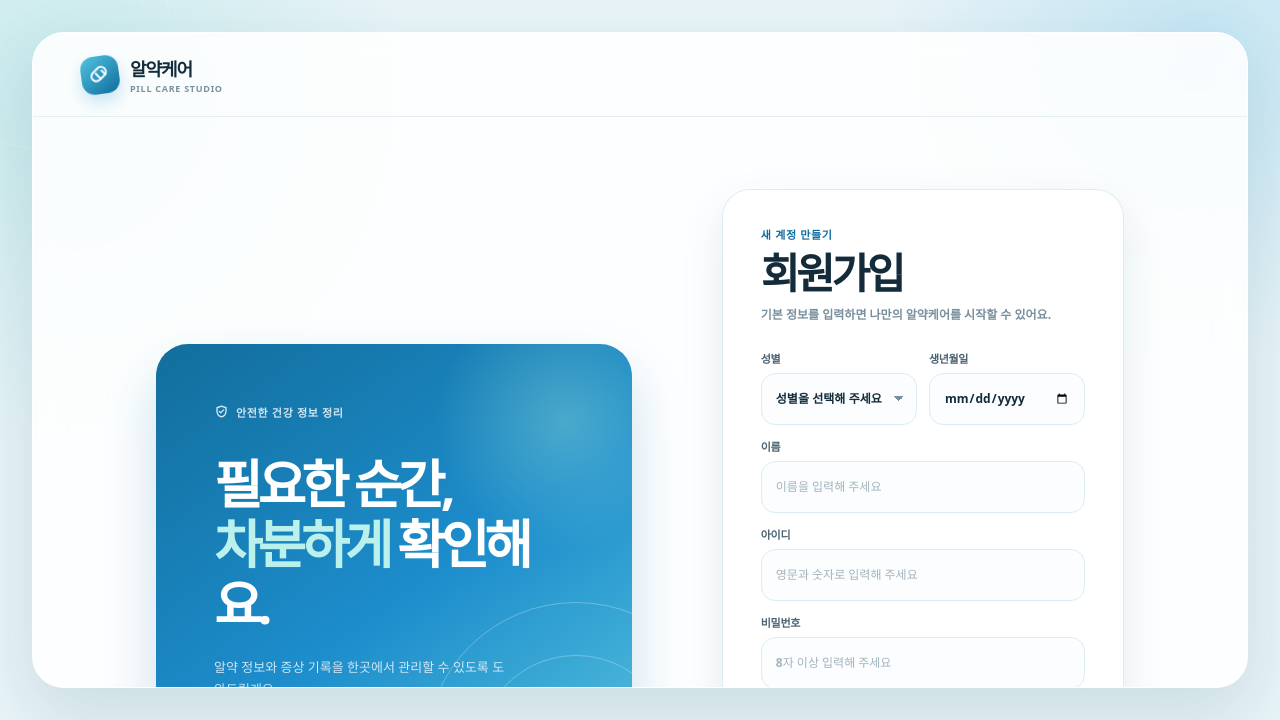
Test: authentication pages › keeps the signup action disabled until required values are complete
The image size is (1280, 720).
Select "남성" in the dropdown labelled "성별" at [839, 399], box 761,373 -> 917,425
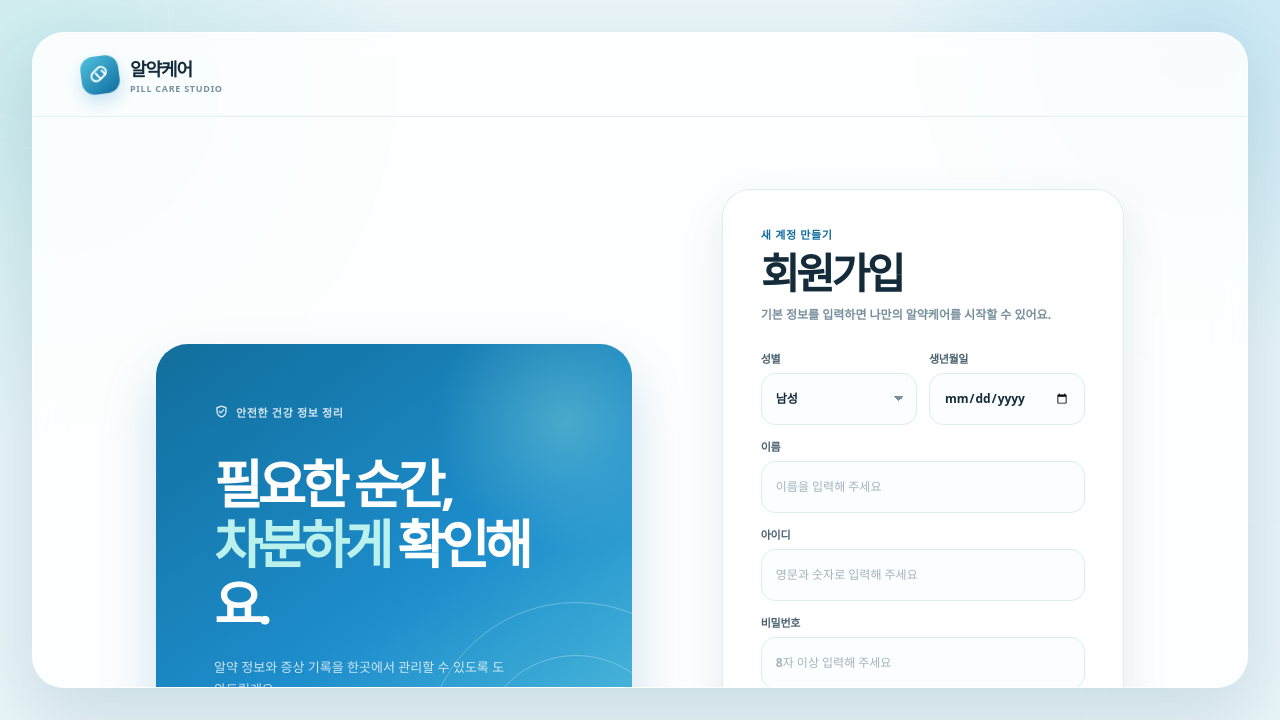
Type "1998-04-12" into the date field labelled "생년월일" at [1007, 399], box 929,373 -> 1085,425
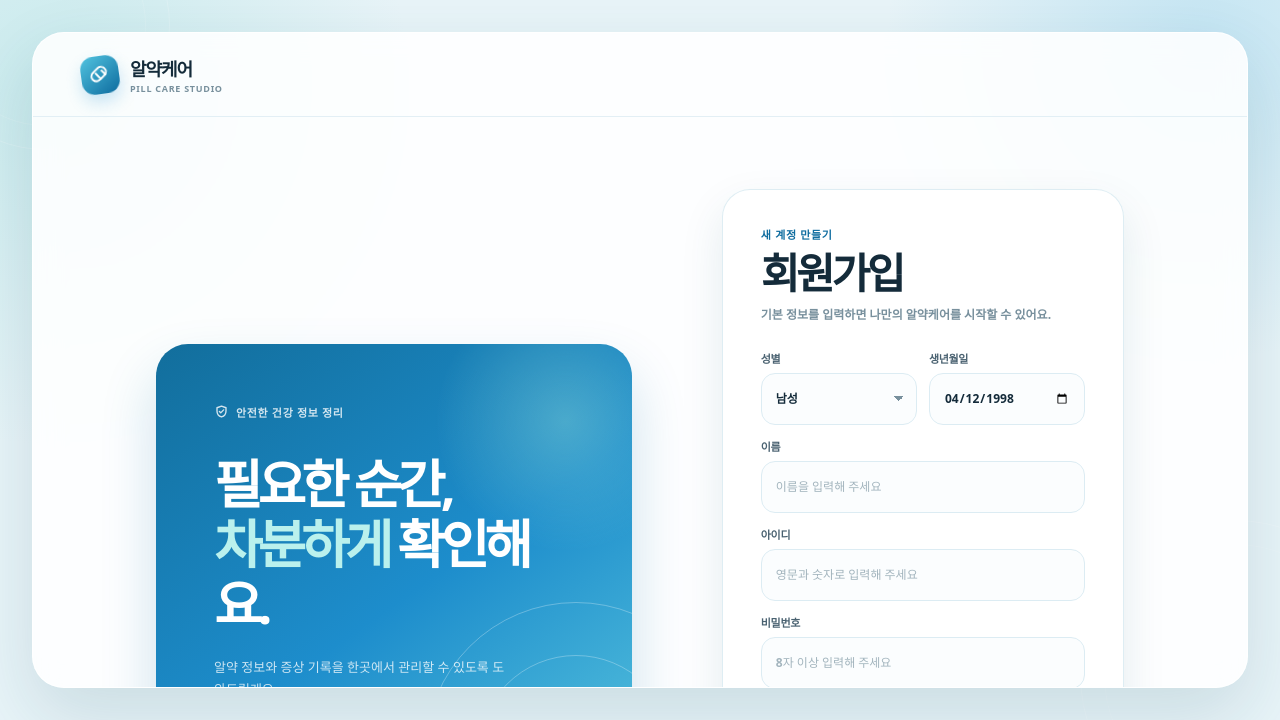
Type "홍길동" into the field labelled "이름" at [923, 487], box 761,461 -> 1085,513
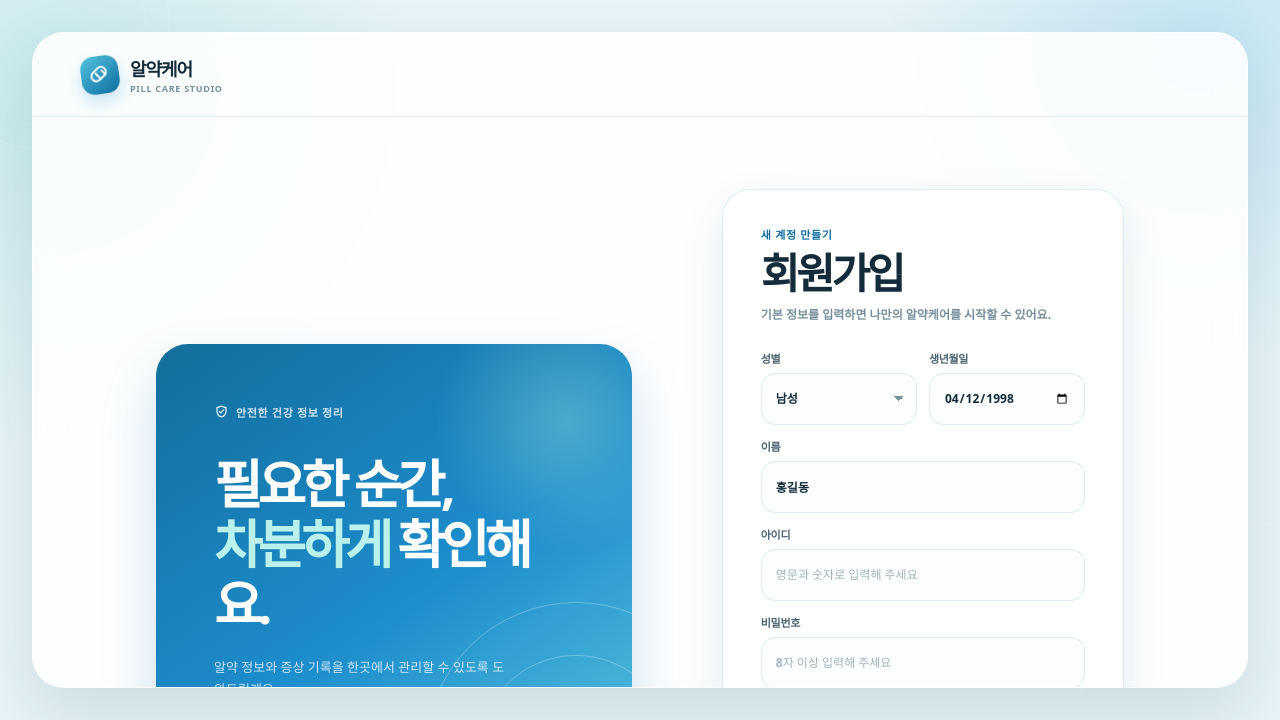
Type "pill-user" into the field labelled "아이디" at [923, 575], box 761,549 -> 1085,601
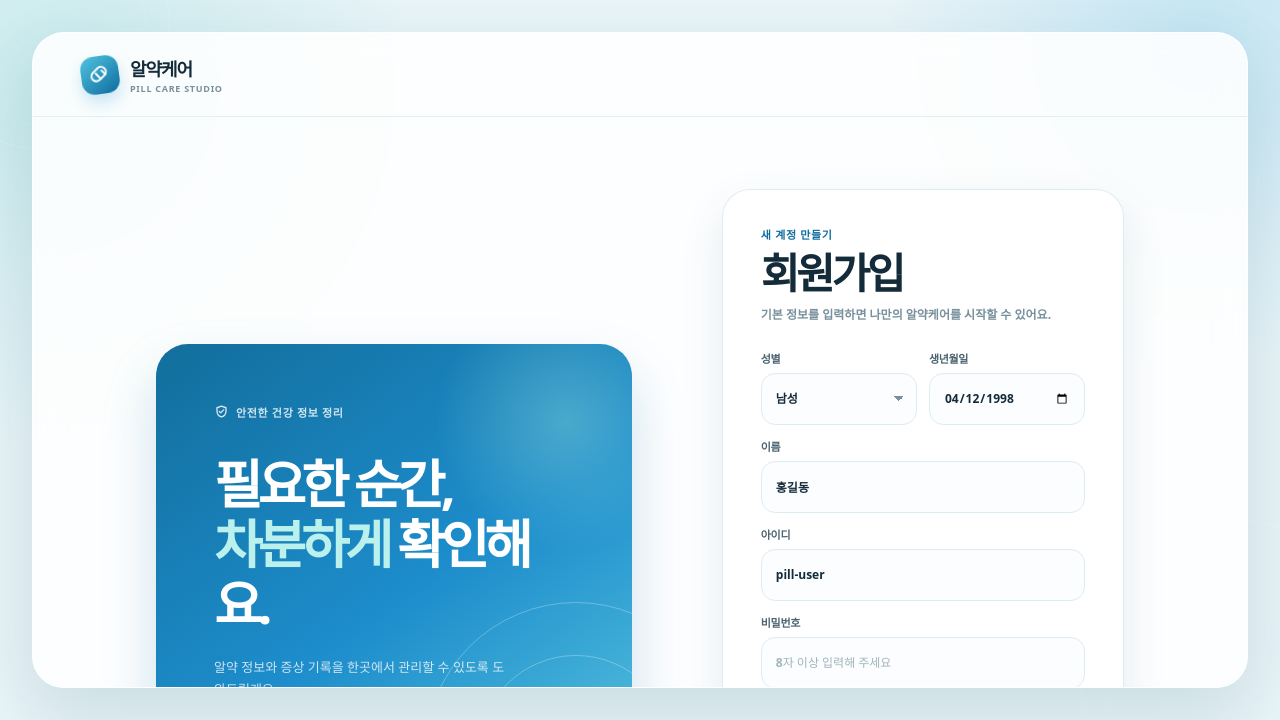
Type "safe-password" into the password field labelled "비밀번호" at [923, 663], box 761,637 -> 1085,689
(page scrolled)
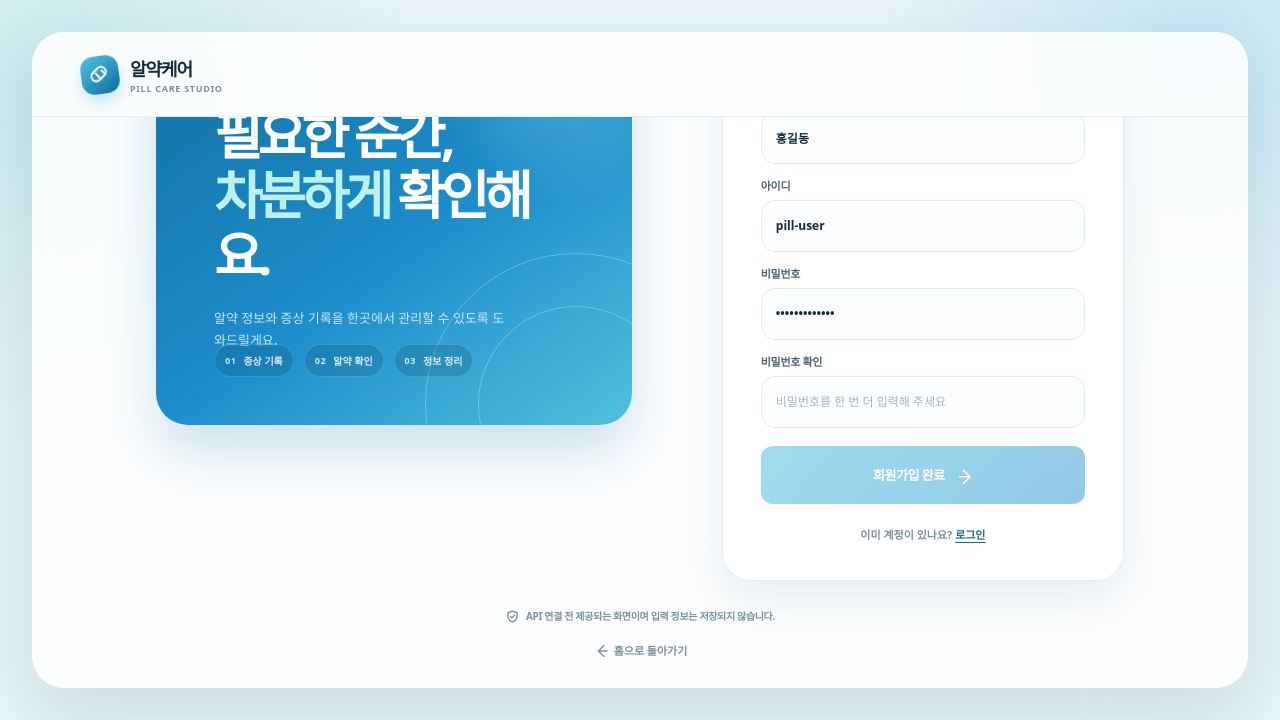
Check: the button "회원가입 완료" is disabled, box 761,446 -> 1085,504
Type "safe-password" into the password field labelled "비밀번호 확인" at [923, 402], box 761,376 -> 1085,428
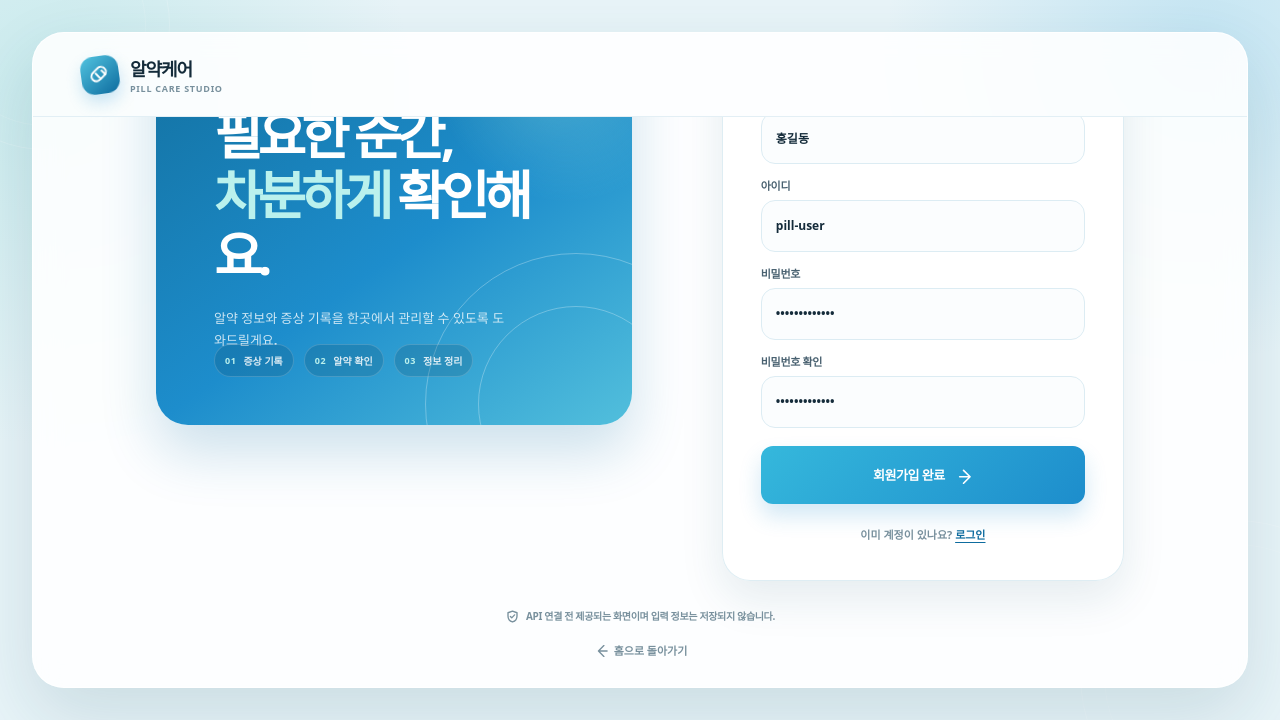
Check: the button "회원가입 완료" is enabled, box 761,446 -> 1085,504
